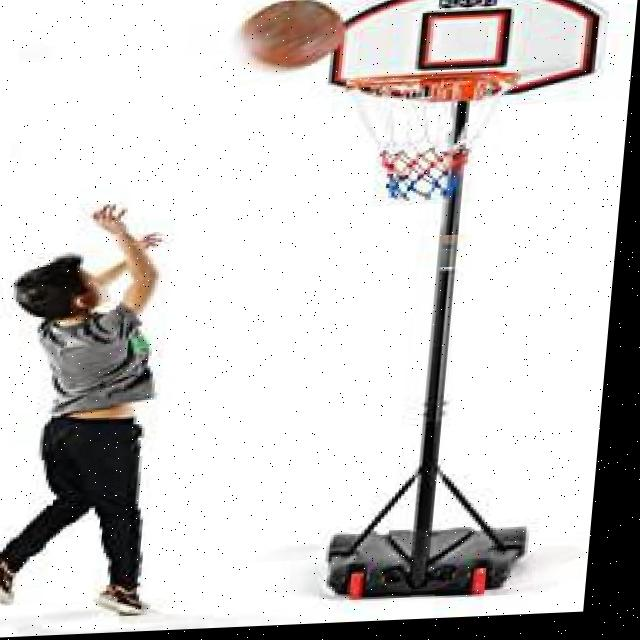Basketball: (238, 0, 347, 72)
hoop: (335, 68, 521, 204)
